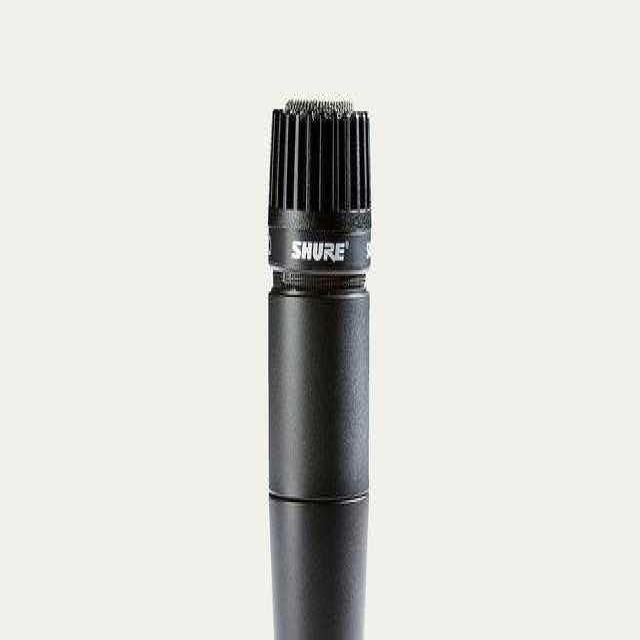microphone: (265, 97, 373, 640)
